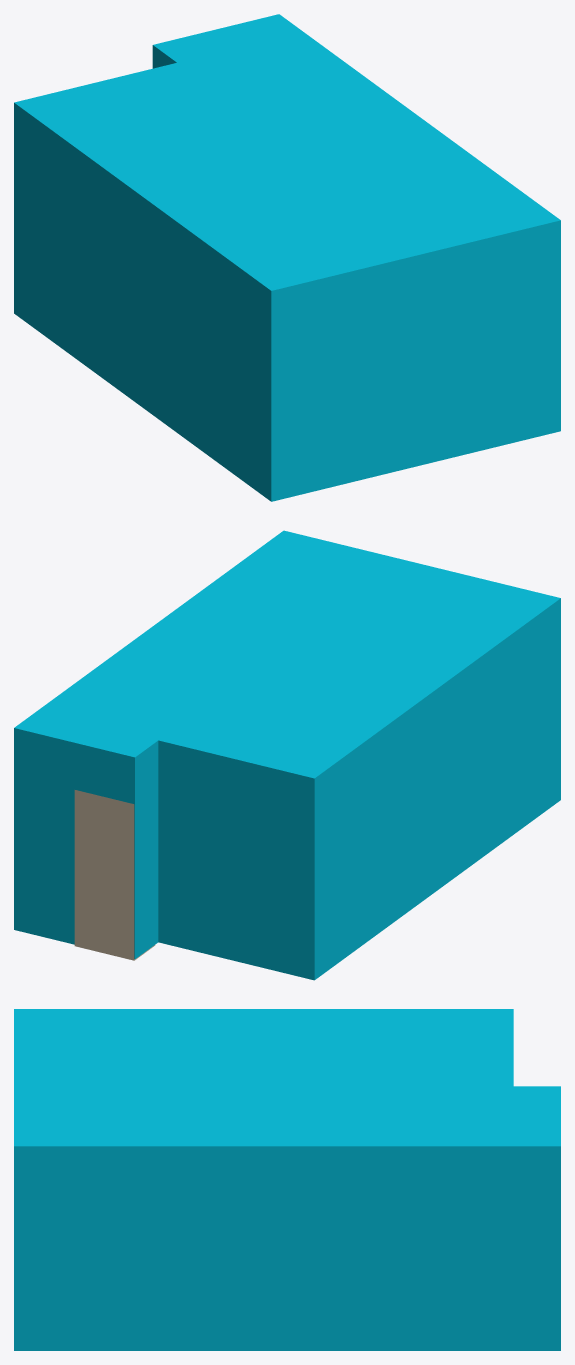
File: furnishingelement-800-mm.glb
The picture shows the model from 3 angles, top to bottom: view 1: azimuth 30°, elevation 25°; view 2: azimuth 150°, elevation 25°; view 3: azimuth 270°, elevation 25°; orthographic projection. The views are drawn at different scales.
Visible parts, largest first — view 1: 0BTBFw6f90Nfh9rP1dl_3A; view 2: 0BTBFw6f90Nfh9rP1dl_3A, 0wkEuT1wr1kOyafLY4vyu$; view 3: 0BTBFw6f90Nfh9rP1dl_3A.
Part boxes in pixels (x1=…): 0BTBFw6f90Nfh9rP1dl_3A: x1=14, y1=14, x2=560, y2=501; 0BTBFw6f90Nfh9rP1dl_3A: x1=14, y1=530, x2=560, y2=980; 0wkEuT1wr1kOyafLY4vyu$: x1=74, y1=790, x2=155, y2=960; 0BTBFw6f90Nfh9rP1dl_3A: x1=14, y1=1009, x2=560, y2=1350.
Size of the model in its own units: 3.71 by 2.6 by 6.25.
